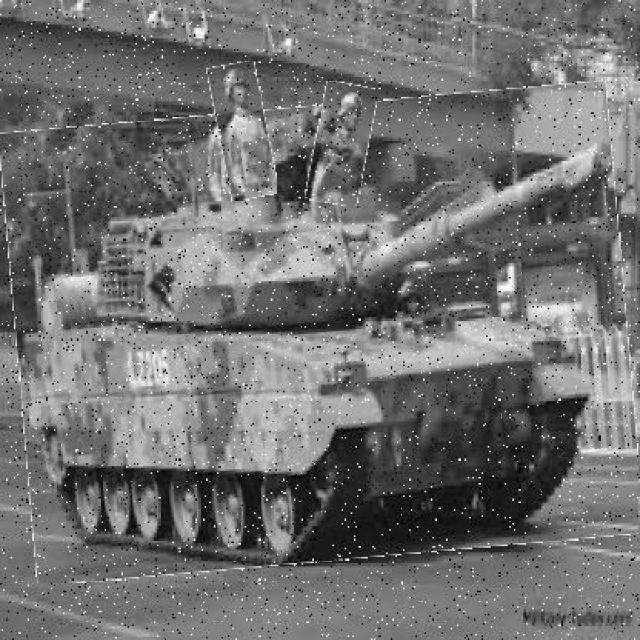Person: (214, 64, 274, 203), (312, 83, 373, 207)
Tank: (9, 95, 636, 573)
